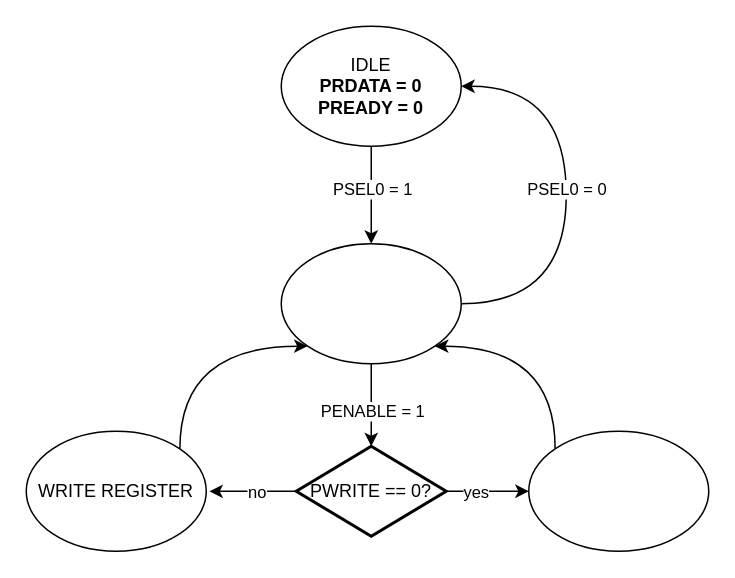
Image size: 735x578. Some labels were removed from this diagram. The shapes that lost their labels are listed below. From the top down, each one's box as (x1, y1, x2, y2) in pixels, then its label:
(280, 242, 461, 364): SELECTED
(527, 430, 709, 551): READ REGISTER
